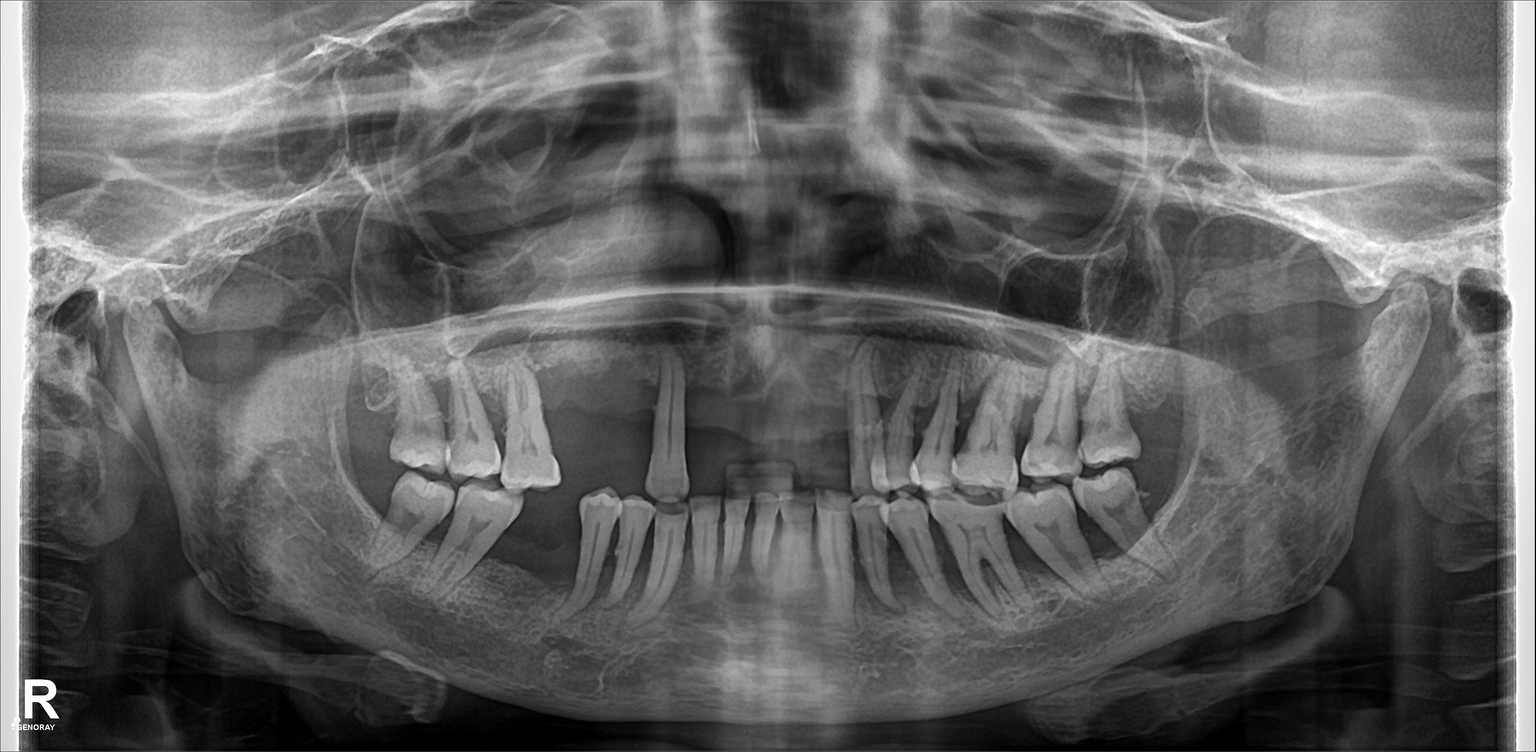Missing Tooth: (596, 361, 656, 481), (534, 359, 591, 469), (516, 510, 571, 617), (1130, 365, 1184, 471), (343, 365, 401, 463), (799, 356, 852, 451), (691, 361, 739, 459), (752, 357, 796, 450), (343, 462, 387, 541), (1151, 478, 1186, 538)
